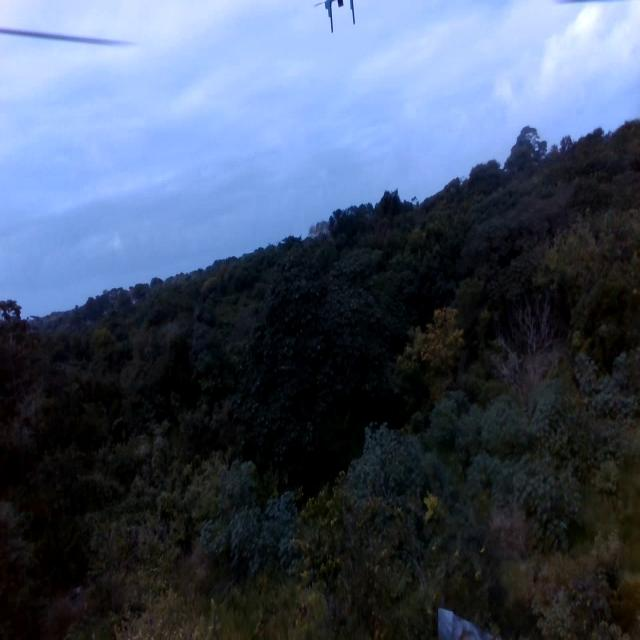-uav-: (322, 0, 359, 41)
